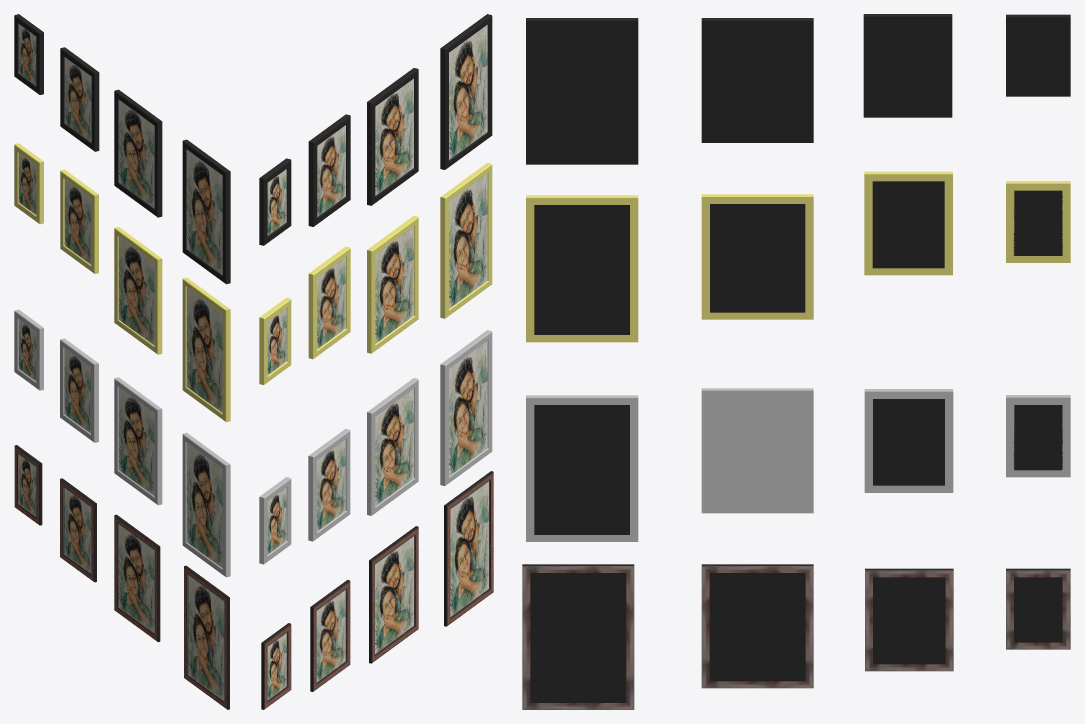
File: Frames .glb
3 renders of one model, left to right at view 1: azimuth 30°, elevation 25°; view 2: azimuth 150°, elevation 25°; view 3: azimuth 270°, elevation 25°, orthographic. The views are drawn at different scales.
Parts seen in each view (by area): view 1: 8x12 Frame (1), 8x12 Frame (4), 8x12 Frame (2), 8x12 Frame (3), 8x10 Frame (1), 8x10 Frame (2), 8x10 Frame (3), 8x10 Frame (4), Cube.075, Cube.068, Cube.064, Cube.058 (+20 smaller); view 2: 8x12 Frame (4), 8x12 Frame (1), 8x12 Frame (2), 8x12 Frame (3), 8x10 Frame (4), 8x10 Frame (3), 8x10 Frame (1), 8x10 Frame (2), Cube.064, Cube.075, Cube.068, Cube.049 (+20 smaller); view 3: 8x12 Frame (4), 8x12 Frame (1), 8x12 Frame (2), 8x12 Frame (3), 8x10 Frame (4), 8x10 Frame (2), 8x10 Frame (1), 8x10 Frame (3), 6x8 Frame (4), 6x8 Frame (2), 6x8 Frame (1), 6x8 Frame (3) (+20 smaller).
Boxes of the visible parts, x1,y1,x2,y2 form: 8x12 Frame (1): (186, 149, 222, 274); 8x12 Frame (4): (188, 575, 224, 700); 8x12 Frame (2): (186, 287, 222, 412); 8x12 Frame (3): (186, 442, 222, 567); 8x10 Frame (1): (118, 100, 154, 208); 8x10 Frame (2): (118, 237, 154, 345); 8x10 Frame (3): (118, 387, 154, 495); 8x10 Frame (4): (118, 524, 154, 632); Cube.075: (182, 432, 230, 577); Cube.068: (182, 277, 230, 422); Cube.064: (182, 139, 230, 284); Cube.058: (114, 377, 162, 505); 8x12 Frame (4): (450, 481, 489, 616); 8x12 Frame (1): (449, 24, 487, 159); 8x12 Frame (2): (449, 173, 487, 308); 8x12 Frame (3): (449, 341, 487, 475); 8x10 Frame (4): (375, 536, 413, 655); 8x10 Frame (3): (375, 389, 413, 505); 8x10 Frame (1): (375, 78, 413, 195); 8x10 Frame (2): (375, 226, 413, 343); Cube.064: (440, 14, 492, 169); Cube.075: (440, 330, 492, 485); Cube.068: (440, 162, 492, 318); Cube.049: (367, 68, 418, 205); 8x12 Frame (4): (530, 573, 626, 702); 8x12 Frame (1): (534, 27, 629, 157); 8x12 Frame (2): (534, 205, 629, 334); 8x12 Frame (3): (534, 405, 629, 534); 8x10 Frame (4): (709, 573, 805, 681); 8x10 Frame (2): (710, 204, 805, 312); 8x10 Frame (1): (710, 27, 805, 135); 8x10 Frame (3): (710, 398, 805, 506); 6x8 Frame (4): (873, 577, 945, 664); 6x8 Frame (2): (872, 181, 944, 268); 6x8 Frame (1): (871, 23, 945, 112); 6x8 Frame (3): (873, 399, 944, 485).
Bounding box in the file's own units: 0.0149 × 1.64 × 1.17.
Materials: 6 (2 with a texture image).
